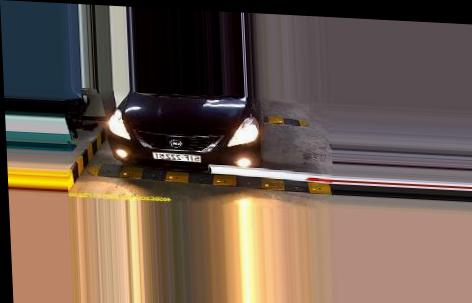License_Plate: (151, 150, 202, 164)
